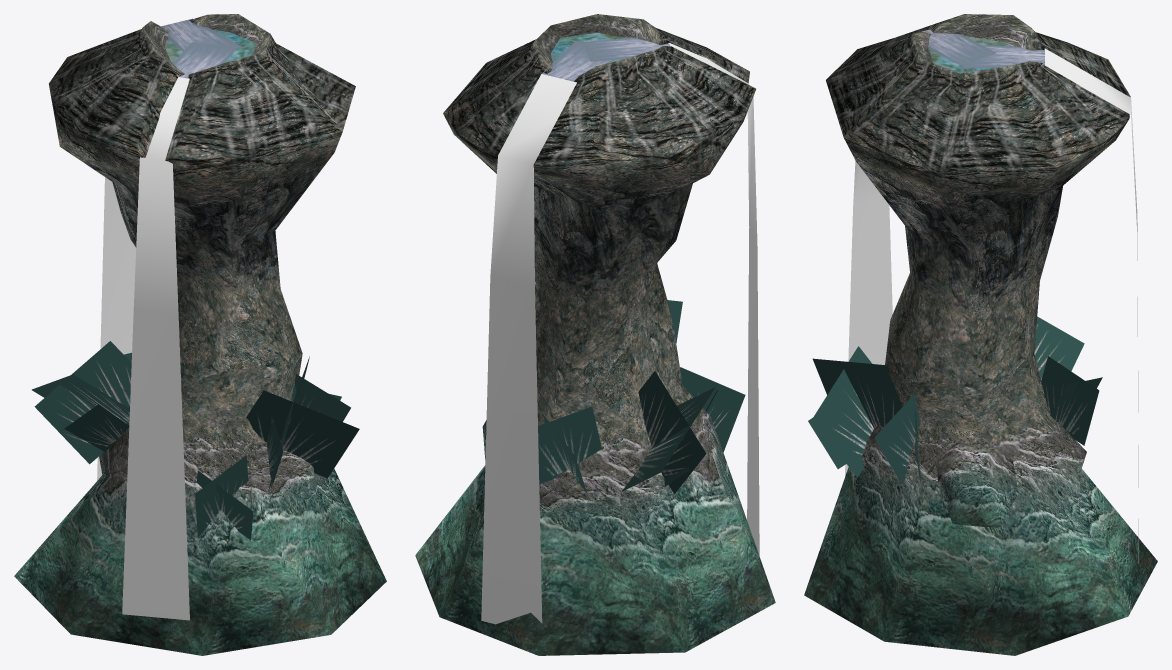
The model's file is rock_crystl_geyser_sm_l2.fbx.
3 views of the same model, side by side, from view 1: azimuth 30°, elevation 25°; view 2: azimuth 150°, elevation 25°; view 3: azimuth 270°, elevation 25° (orthographic).
Visible parts, largest first — view 1: mesh_node; view 2: mesh_node; view 3: mesh_node.
Boxes of the visible parts, x1,y1,x2,y2 form: mesh_node: (14, 14, 386, 655); mesh_node: (415, 14, 775, 655); mesh_node: (804, 14, 1157, 655).
Bounding box in the file's own units: 10.65 × 17.41 × 10.33.
